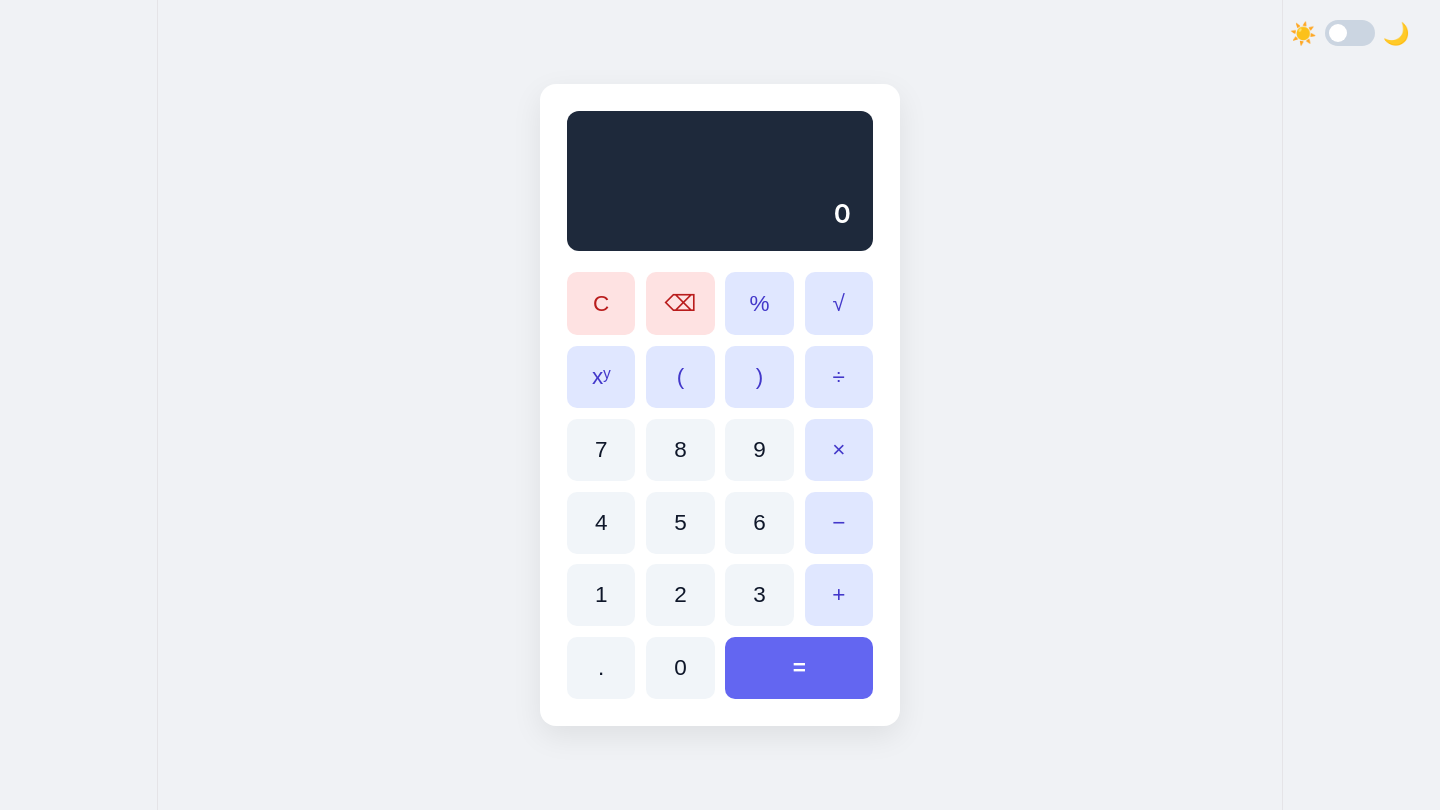
Test: Scientific Calculator Component › builds a chained expression correctly with new operators
"7 + 8 × 9"
Click the button "7" at x=601, y=450, box [567,419,635,481]
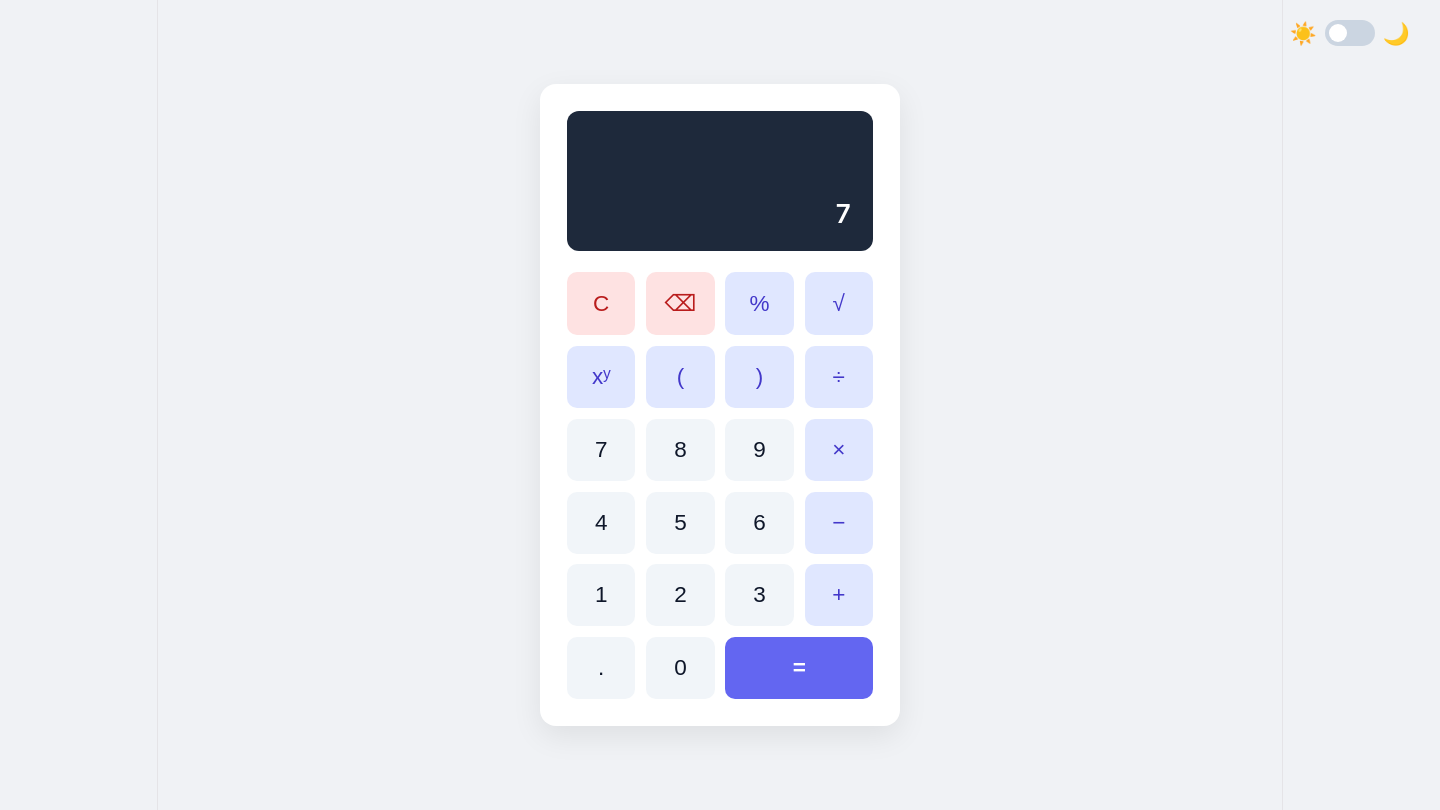
Click the button "+" at x=839, y=596, box [805,564,873,626]
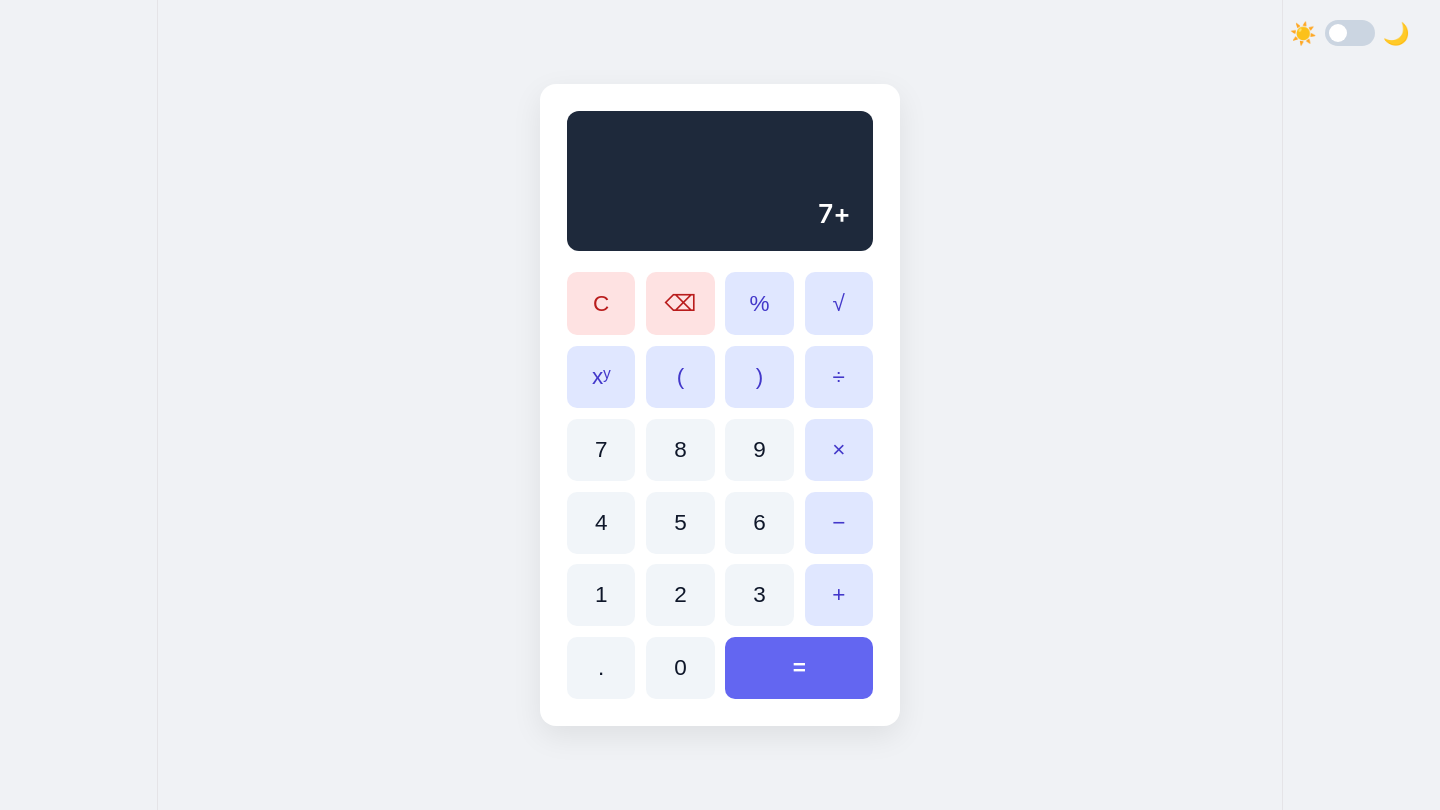
Click the button "8" at x=680, y=450, box [646,419,715,481]
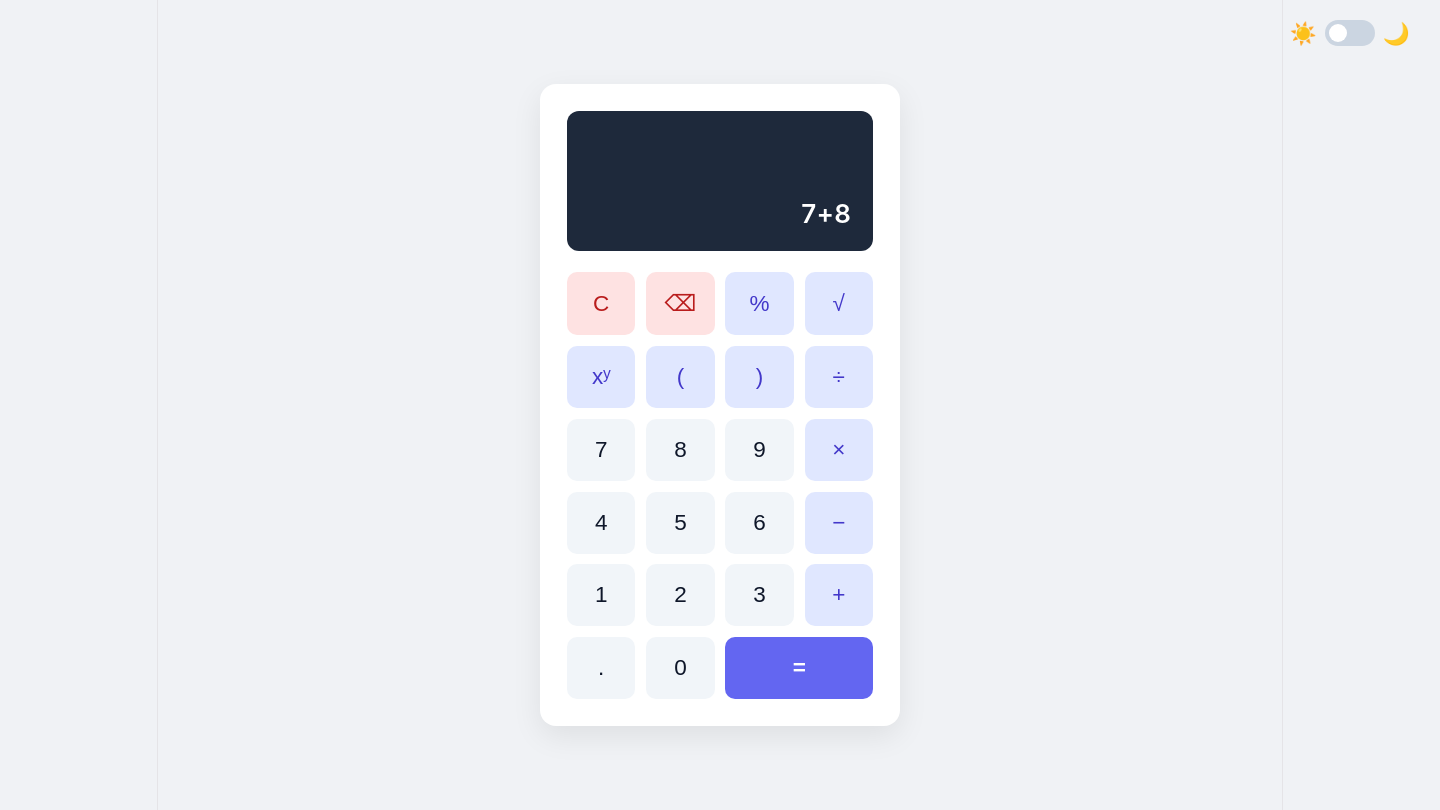
Click the button "×" at x=839, y=450, box [805,419,873,481]
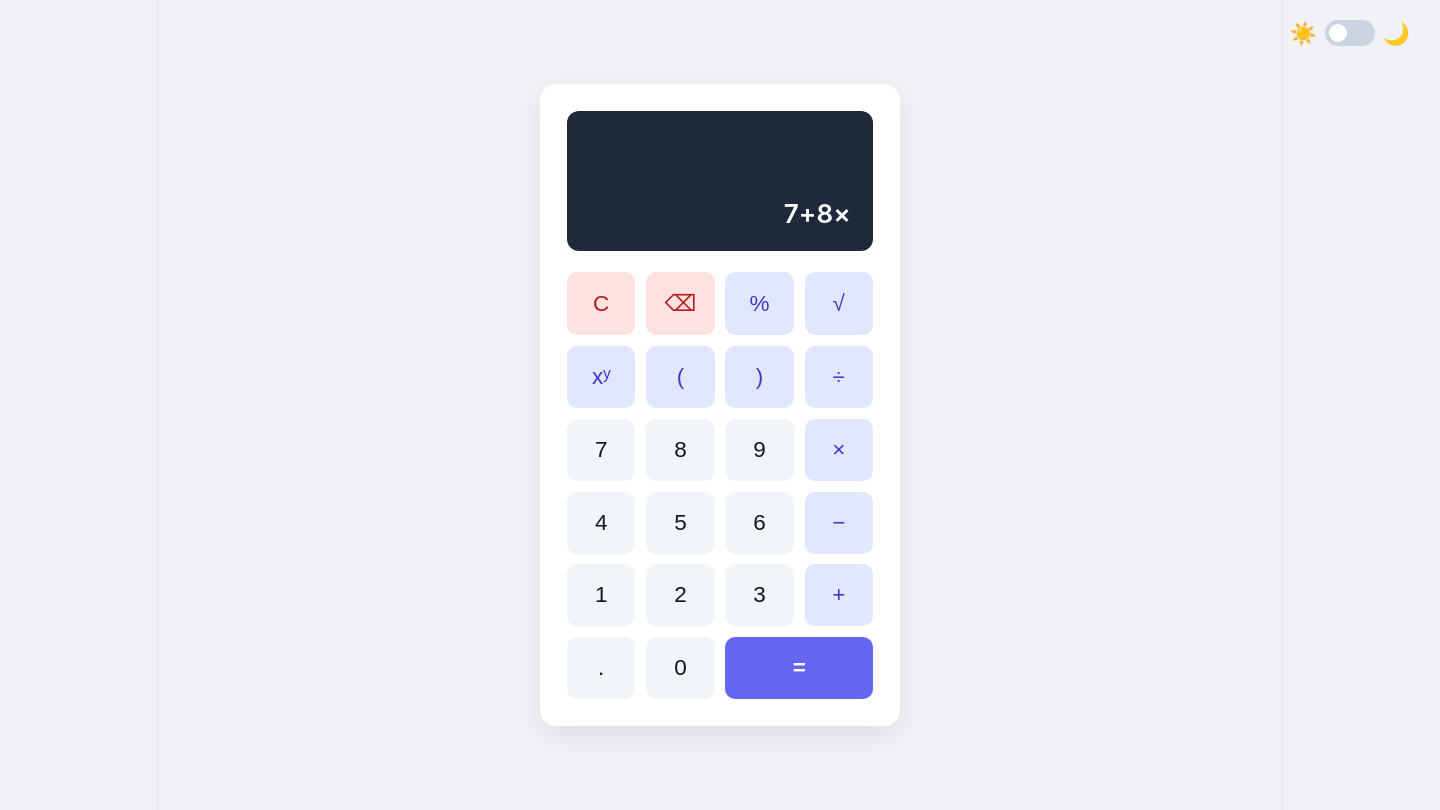
Click the button "9" at x=760, y=450, box [725,419,794,481]
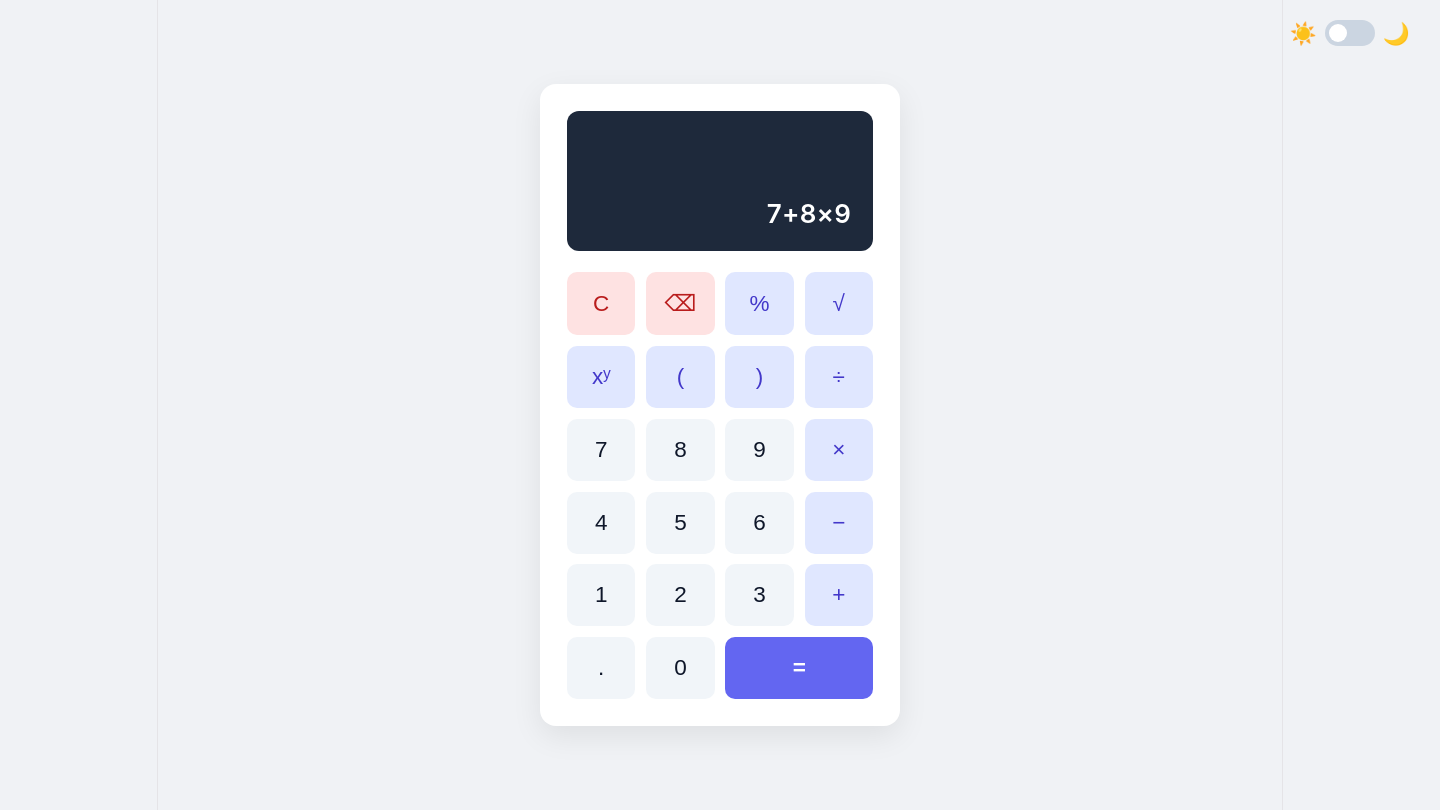
Check: the text with test id "display" reads "7+8×9", box [767,198,851,229]
